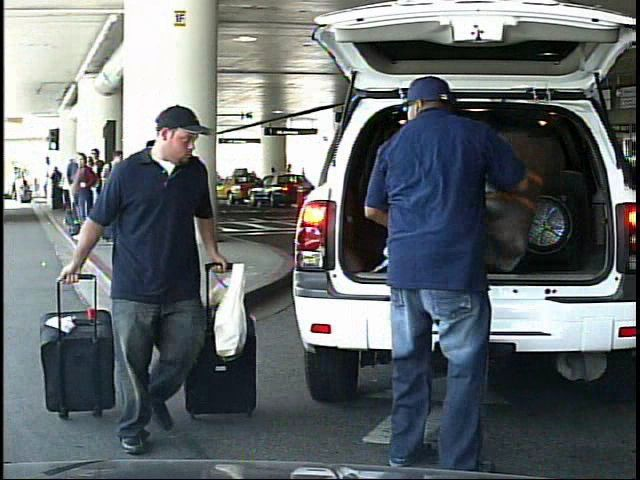person: (355, 74, 541, 476), (91, 111, 251, 449), (283, 162, 295, 198), (14, 172, 26, 204)
